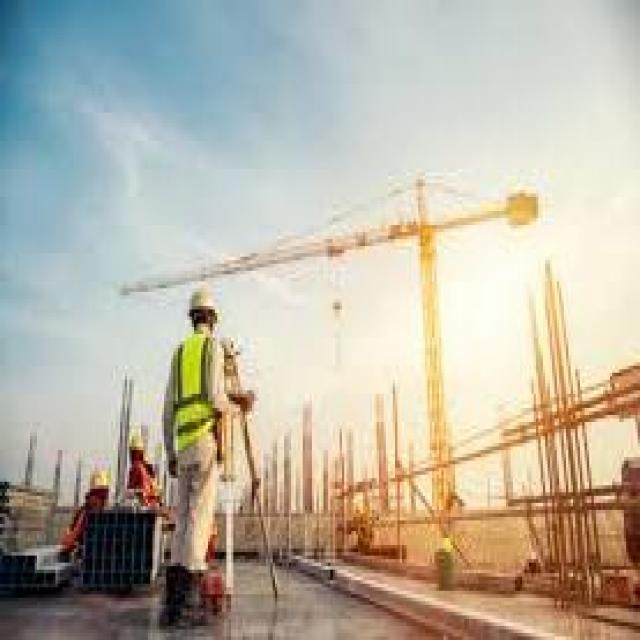Reflective-Jacket: (157, 331, 236, 488), (125, 461, 162, 513)
Safety-Helmet: (178, 270, 229, 330), (123, 422, 150, 461)
